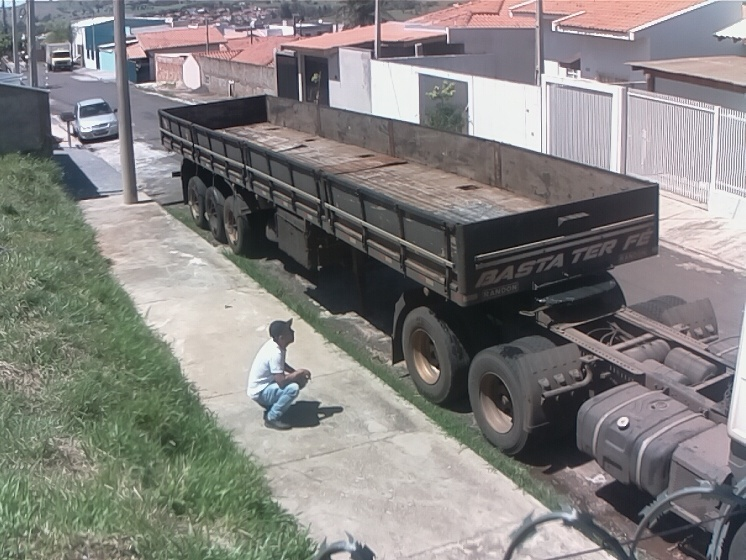person: (245, 318, 315, 432)
